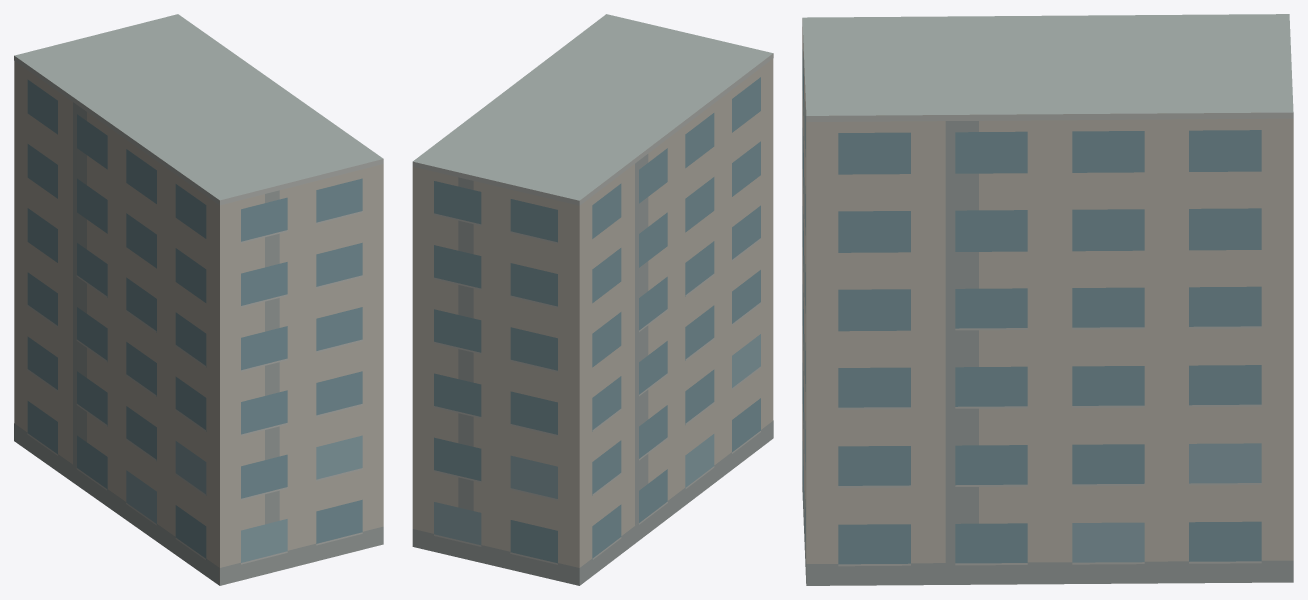
Rendered from survey-upis-32742598.glb.
3 views of the same model, side by side, from view 1: azimuth 30°, elevation 25°; view 2: azimuth 150°, elevation 25°; view 3: azimuth 270°, elevation 25° (orthographic). The views are drawn at different scales.
Visible parts, largest first — view 1: survey-upis-32742598.tmp; view 2: survey-upis-32742598.tmp; view 3: survey-upis-32742598.tmp.
Boxes of the visible parts, box(x1,y1,x2,y2) form: survey-upis-32742598.tmp: box(14, 14, 383, 585); survey-upis-32742598.tmp: box(412, 14, 773, 585); survey-upis-32742598.tmp: box(802, 14, 1293, 585).
Size of the model in its own units: 8.71 by 18.7 by 17.72.
